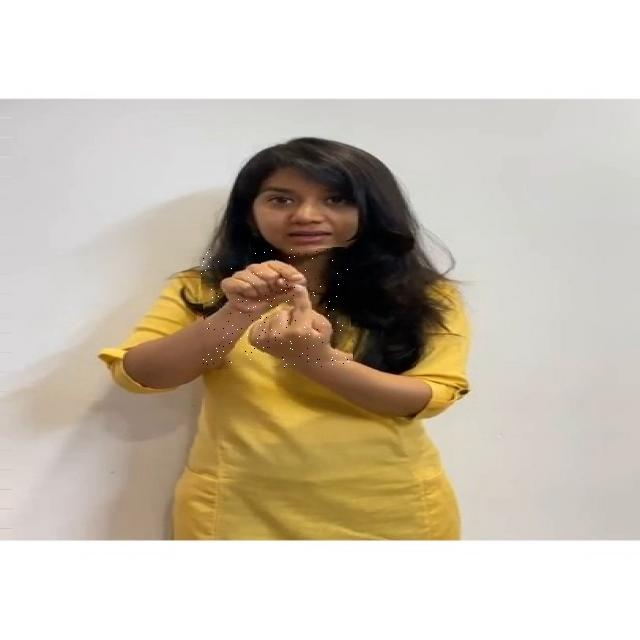I: (201, 249, 352, 368)
